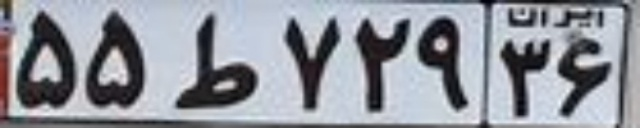2: (354, 17, 407, 112)
3: (499, 37, 553, 116)
5: (84, 7, 148, 108), (16, 7, 76, 107)
6: (554, 36, 614, 118)
7: (281, 17, 342, 111)
9: (417, 14, 473, 113)
taa: (171, 11, 258, 109)
